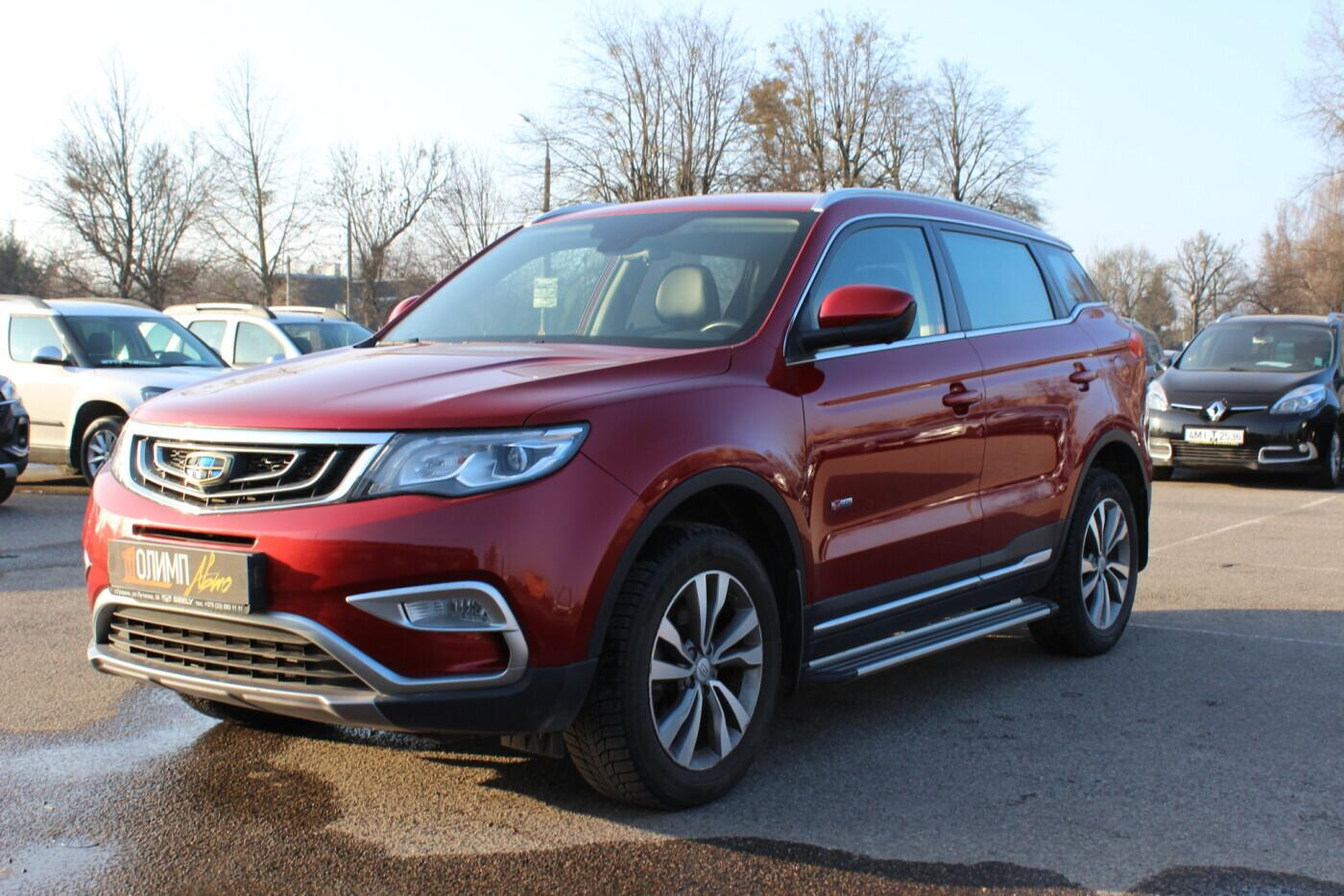Atlas_2016-2023: (82, 179, 1163, 809)
